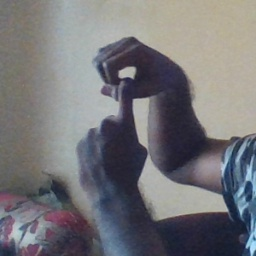Q: (76, 34, 175, 177)
